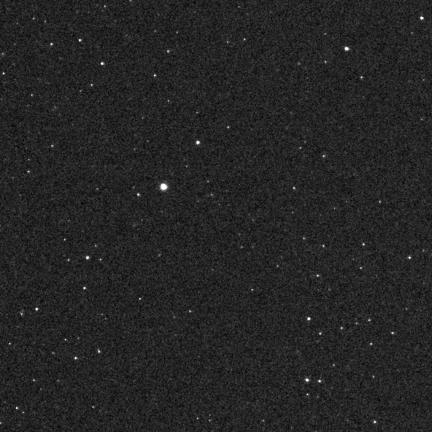blob: (160, 184, 167, 190)
